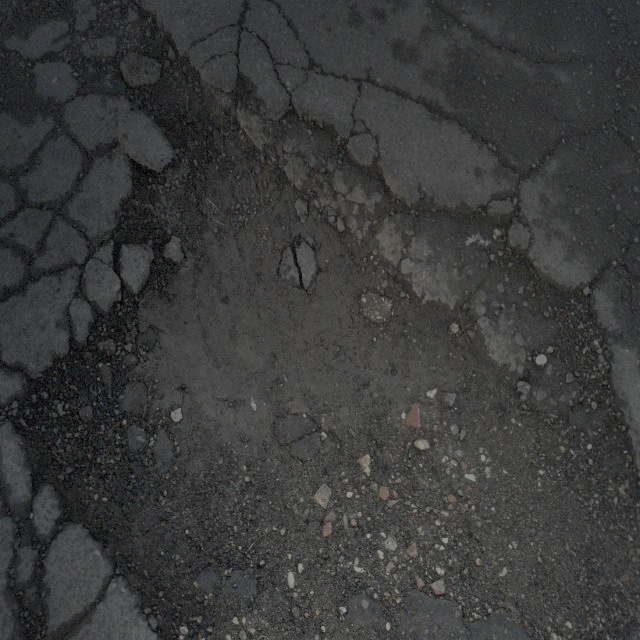pothole: (84, 77, 585, 457)
